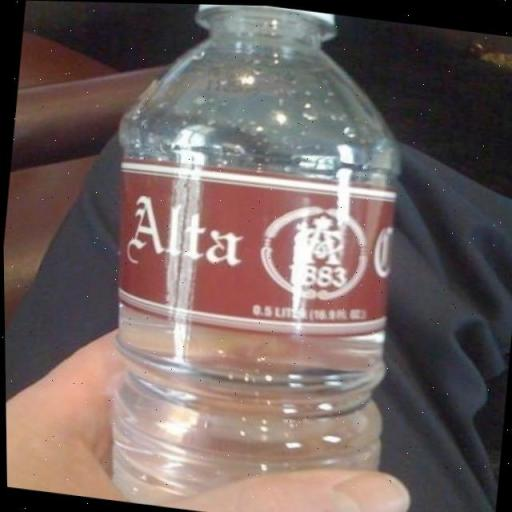plastic: (109, 3, 400, 504)
